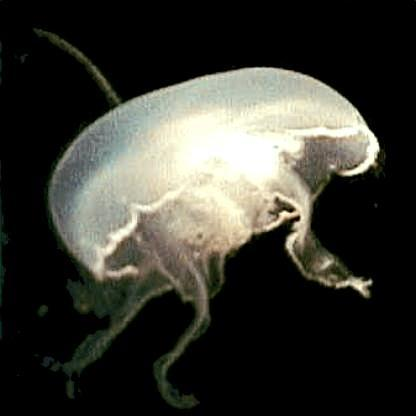Speckle: (55, 67, 386, 401), (3, 18, 135, 368)
